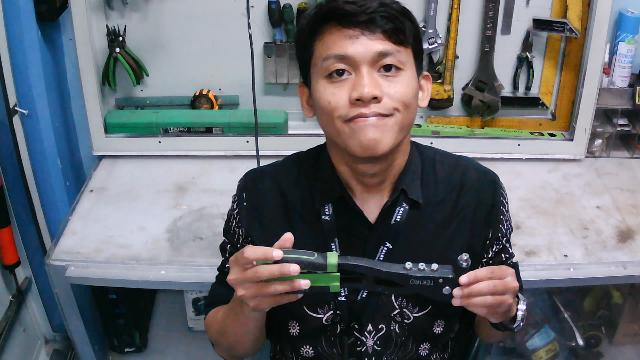tang_rivet: (247, 251, 473, 308)
